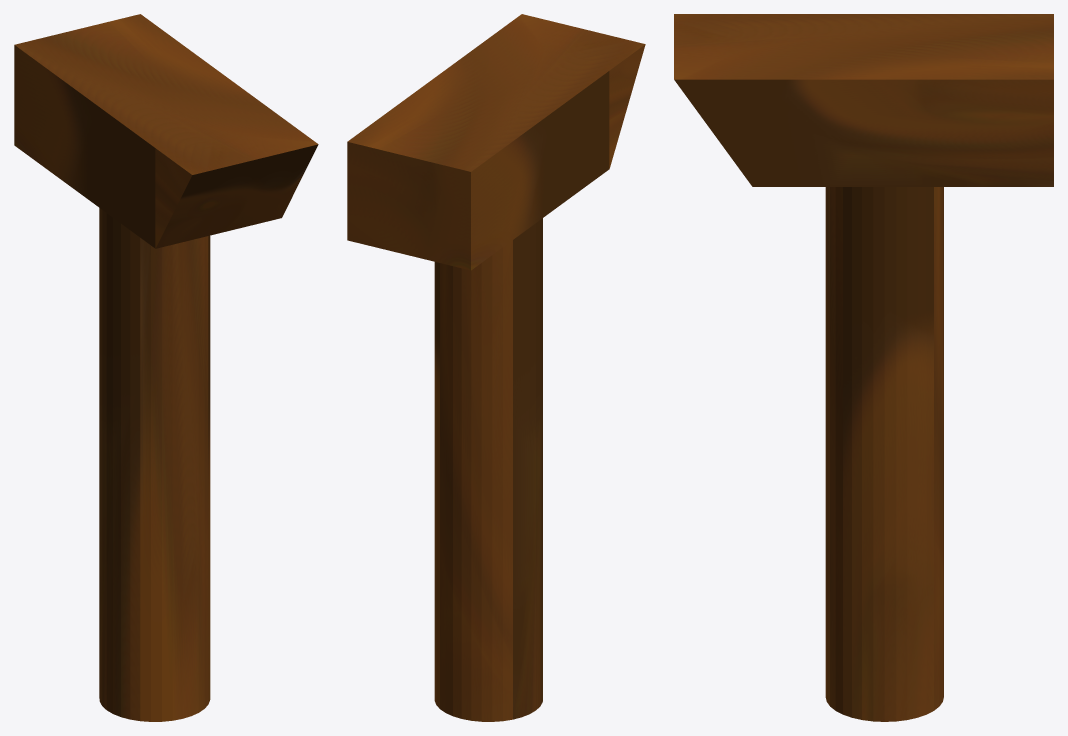
The model's file is hammer0.2.fbx.
3 views of the same model, side by side, from view 1: azimuth 30°, elevation 25°; view 2: azimuth 150°, elevation 25°; view 3: azimuth 270°, elevation 25° (orthographic). The views are drawn at different scales.
Visible parts, largest first — view 1: Cylinder, Cube; view 2: Cylinder, Cube; view 3: Cylinder, Cube.
Part boxes in pixels (<box>): Cylinder: <box>99,208,210,721</box>; Cube: <box>14,14,318,248</box>; Cylinder: <box>434,218,542,721</box>; Cube: <box>347,14,645,270</box>; Cylinder: <box>825,187,943,721</box>; Cube: <box>674,14,1053,186</box>.
Size of the model in its own units: 263 by 1214 by 642.
Materials: 2 (2 with a texture image).
